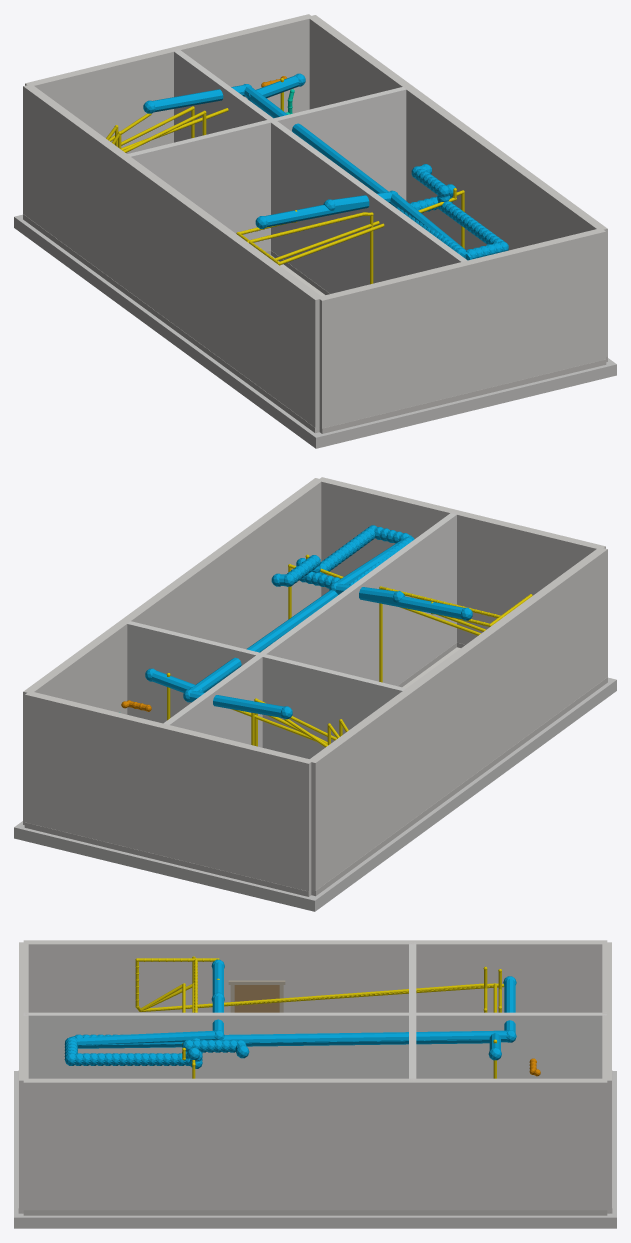
Rendered from bim_1b16834de4ff.glb.
The picture shows the model from 3 angles, top to bottom: view 1: azimuth 30°, elevation 25°; view 2: azimuth 150°, elevation 25°; view 3: azimuth 270°, elevation 25°; orthographic projection.
Visible parts, largest first — view 1: arch_geometry_7, arch_geometry_1, arch_geometry_3, arch_geometry_9, arch_geometry_11, arch_geometry_5, arch_geometry_0, mep_hvac_hvac_11a773, mep_hvac_hvac_216b5b, arch_geometry_8, mep_hvac_hvac_60025d, arch_geometry_2 (+5 smaller); view 2: arch_geometry_7, arch_geometry_5, arch_geometry_3, arch_geometry_9, arch_geometry_1, arch_geometry_11, arch_geometry_0, mep_hvac_hvac_11a773, mep_hvac_hvac_216b5b, arch_geometry_8, arch_geometry_6, mep_hvac_hvac_60025d (+3 smaller); view 3: arch_geometry_3, arch_geometry_7, arch_geometry_9, arch_geometry_0, arch_geometry_4, mep_hvac_hvac_11a773, mep_hvac_hvac_216b5b, arch_geometry_1, arch_geometry_5, mep_hvac_hvac_60025d, mep_hvac_hvac_a87976, arch_geometry_20 (+6 smaller).
Boxes of the visible parts, left/top/right/bottom form: arch_geometry_7: left=23, top=84, right=321, bottom=432; arch_geometry_1: left=317, top=228, right=605, bottom=433; arch_geometry_3: left=307, top=15, right=607, bottom=358; arch_geometry_9: left=172, top=48, right=467, bottom=293; arch_geometry_11: left=125, top=86, right=406, bottom=251; arch_geometry_5: left=25, top=14, right=310, bottom=153; arch_geometry_0: left=14, top=214, right=616, bottom=448; mep_hvac_hvac_11a773: left=143, top=84, right=396, bottom=207; mep_hvac_hvac_216b5b: left=411, top=164, right=508, bottom=260; arch_geometry_8: left=23, top=214, right=319, bottom=432; mep_hvac_hvac_60025d: left=255, top=190, right=466, bottom=253; arch_geometry_2: left=322, top=359, right=606, bottom=433; arch_geometry_7: left=310, top=547, right=607, bottom=895; arch_geometry_5: left=25, top=692, right=313, bottom=896; arch_geometry_3: left=23, top=478, right=322, bottom=824; arch_geometry_9: left=163, top=512, right=458, bottom=747; arch_geometry_1: left=318, top=477, right=605, bottom=644; arch_geometry_11: left=127, top=621, right=409, bottom=758; arch_geometry_0: left=14, top=677, right=616, bottom=911; mep_hvac_hvac_11a773: left=183, top=590, right=337, bottom=719; mep_hvac_hvac_216b5b: left=271, top=525, right=411, bottom=586; arch_geometry_8: left=311, top=677, right=607, bottom=895; arch_geometry_6: left=24, top=822, right=308, bottom=896; mep_hvac_hvac_60025d: left=329, top=536, right=472, bottom=620; arch_geometry_3: left=23, top=1078, right=607, bottom=1210; arch_geometry_7: left=23, top=940, right=607, bottom=1012; arch_geometry_9: left=23, top=1012, right=606, bottom=1078; arch_geometry_0: left=14, top=1071, right=616, bottom=1228; arch_geometry_4: left=23, top=1210, right=607, bottom=1215; mep_hvac_hvac_11a773: left=82, top=976, right=516, bottom=1045; mep_hvac_hvac_216b5b: left=64, top=1037, right=249, bottom=1065; arch_geometry_1: left=19, top=942, right=28, bottom=1213; arch_geometry_5: left=602, top=942, right=611, bottom=1213; mep_hvac_hvac_60025d: left=75, top=959, right=224, bottom=1045; mep_hvac_hvac_a87976: left=77, top=1031, right=501, bottom=1060; arch_geometry_20: left=234, top=985, right=279, bottom=1012.
Bounding box in the file's own units: 7.1 × 3.31 × 12.34.
